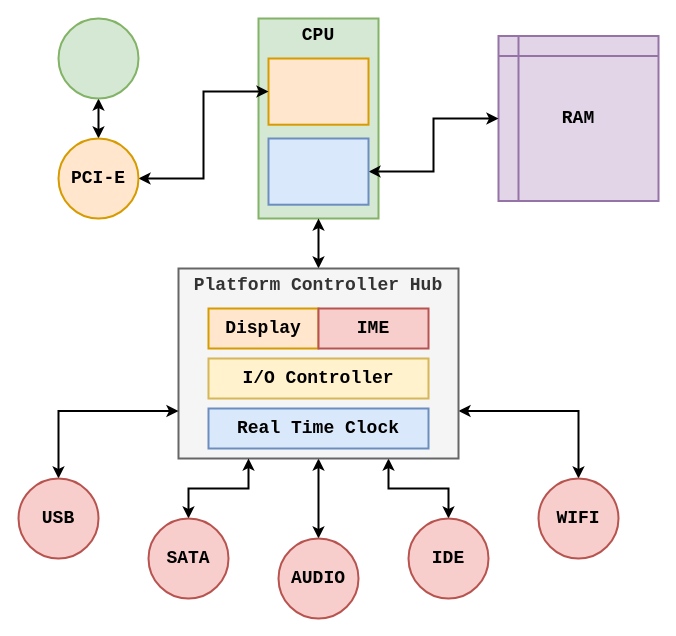
Some shapes in this 676 by 636 pixel diagram are drawn without their labels. Each missing label, with the centre of its shape:
"GPU" belongs at (98,58).
"iGFX" belongs at (318,91).
"IMC" belongs at (318,171).
